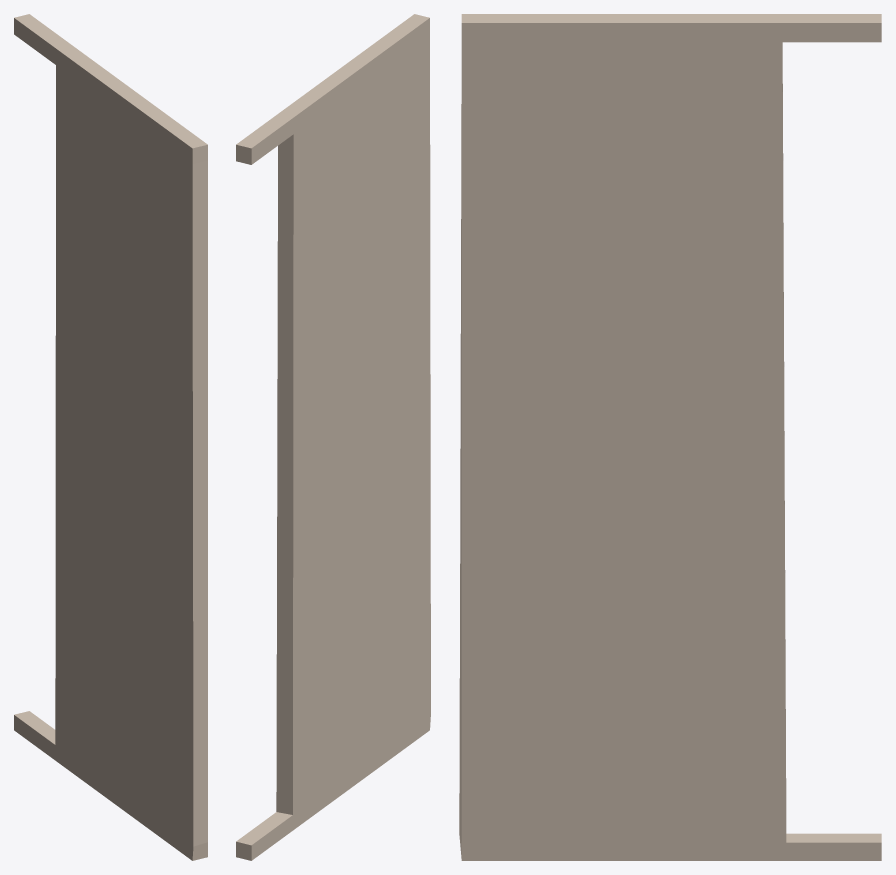
The model's file is panneau_pub.FBX.
The picture shows the model from 3 angles, left to right: view 1: azimuth 30°, elevation 25°; view 2: azimuth 150°, elevation 25°; view 3: azimuth 270°, elevation 25°; orthographic projection. The views are drawn at different scales.
Parts seen in each view (by area): view 1: panneau_pub_2; view 2: panneau_pub_2; view 3: panneau_pub_2.
Boxes of the visible parts, bbox=[...] form: panneau_pub_2: bbox=[14, 14, 207, 860]; panneau_pub_2: bbox=[236, 14, 430, 860]; panneau_pub_2: bbox=[459, 14, 881, 860].
Size of the model in its own units: 0.7549 by 33.17 by 15.15.
